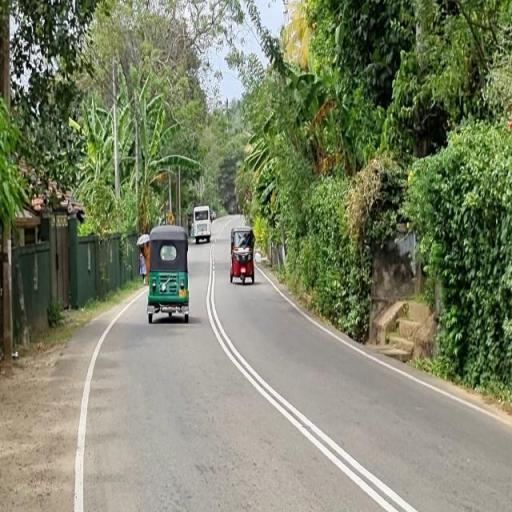double_white_line: (204, 249, 417, 512)
